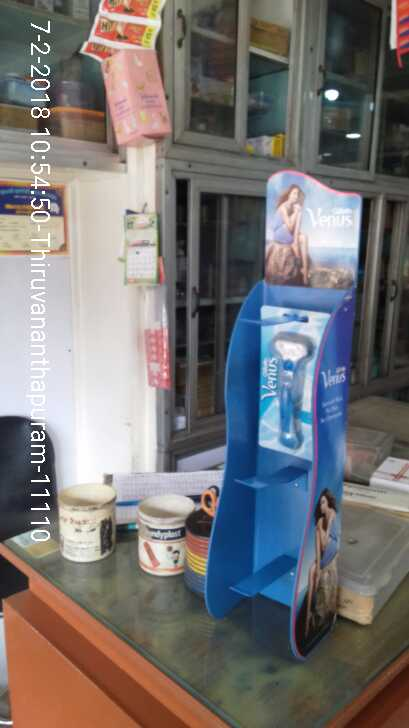venus: (263, 306, 317, 452)
